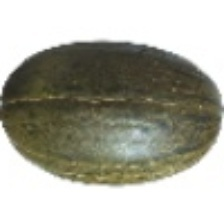honeydew: (39, 9, 184, 201)
